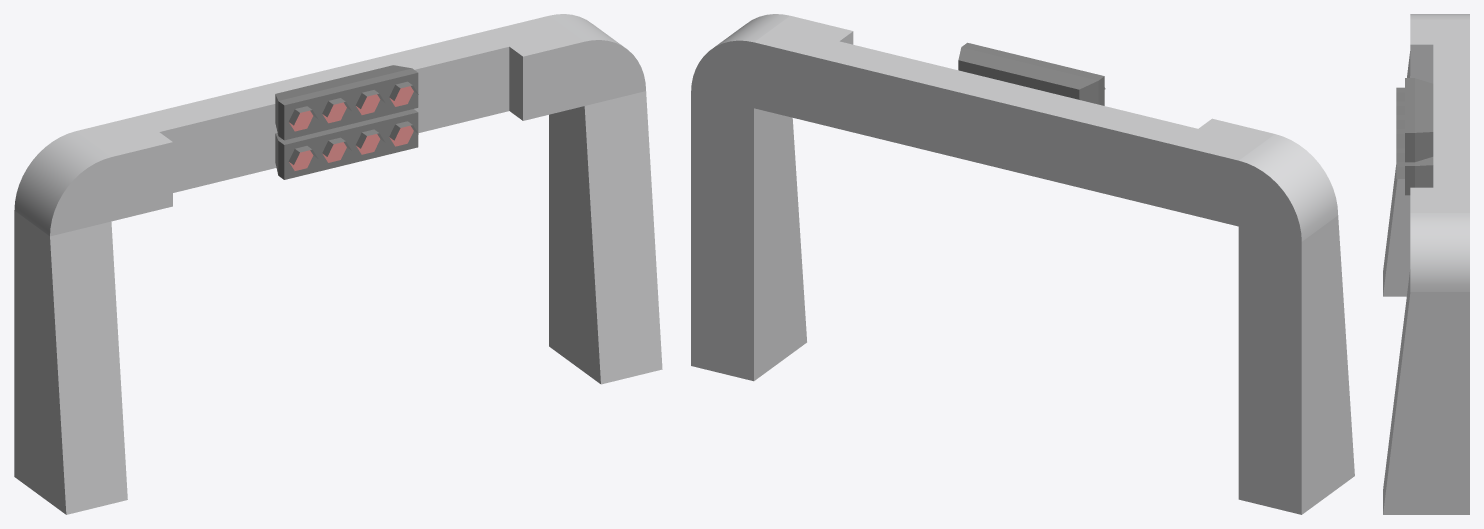
The model's file is overheadLights.glb.
The picture shows the model from 3 angles, left to right: view 1: azimuth 30°, elevation 25°; view 2: azimuth 150°, elevation 25°; view 3: azimuth 270°, elevation 25°; orthographic projection. The views are drawn at different scales.
Parts seen in each view (by area): view 1: overheadLights(Clone); view 2: overheadLights(Clone); view 3: overheadLights(Clone).
Boxes of the visible parts, x1=… form: overheadLights(Clone): x1=14, y1=14, x2=662, y2=514; overheadLights(Clone): x1=691, y1=14, x2=1354, y2=514; overheadLights(Clone): x1=1383, y1=14, x2=1469, y2=514.
Bounding box in the file's own units: 1.26 × 0.6939 × 0.19.
